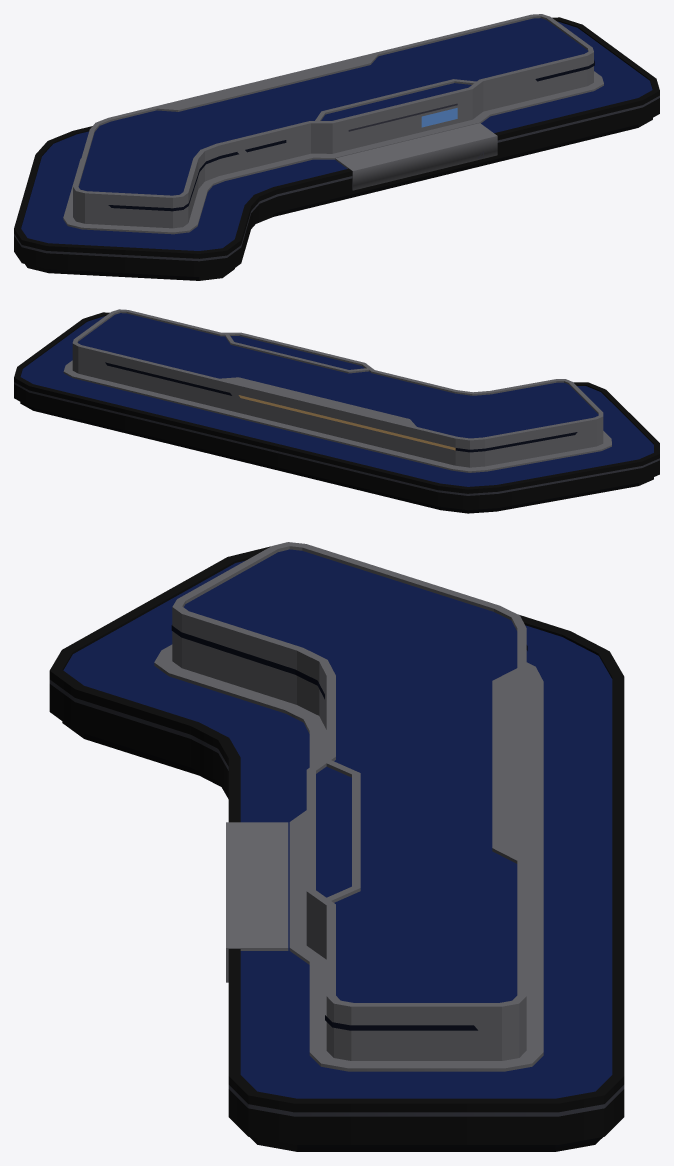
Rendered from W_O_Flowerbed_001_L1.fbx.
3 views of the same model, one above another, from view 1: azimuth 30°, elevation 25°; view 2: azimuth 150°, elevation 25°; view 3: azimuth 270°, elevation 25° (orthographic). The views are drawn at different scales.
Visible parts, largest first — view 1: W_O_Flowerbed_001_L1; view 2: W_O_Flowerbed_001_L1; view 3: W_O_Flowerbed_001_L1.
Part boxes in pixels (x1,y1,x2,y2): W_O_Flowerbed_001_L1: (14, 14, 659, 280); W_O_Flowerbed_001_L1: (14, 309, 659, 513); W_O_Flowerbed_001_L1: (49, 542, 624, 1151).
Bounding box in the file's own units: 11 × 1 × 4.79.
